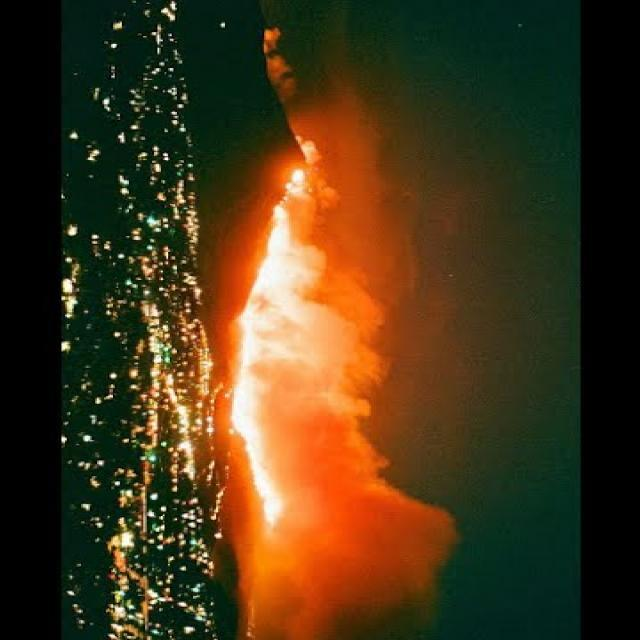Fire: (226, 172, 312, 554)
